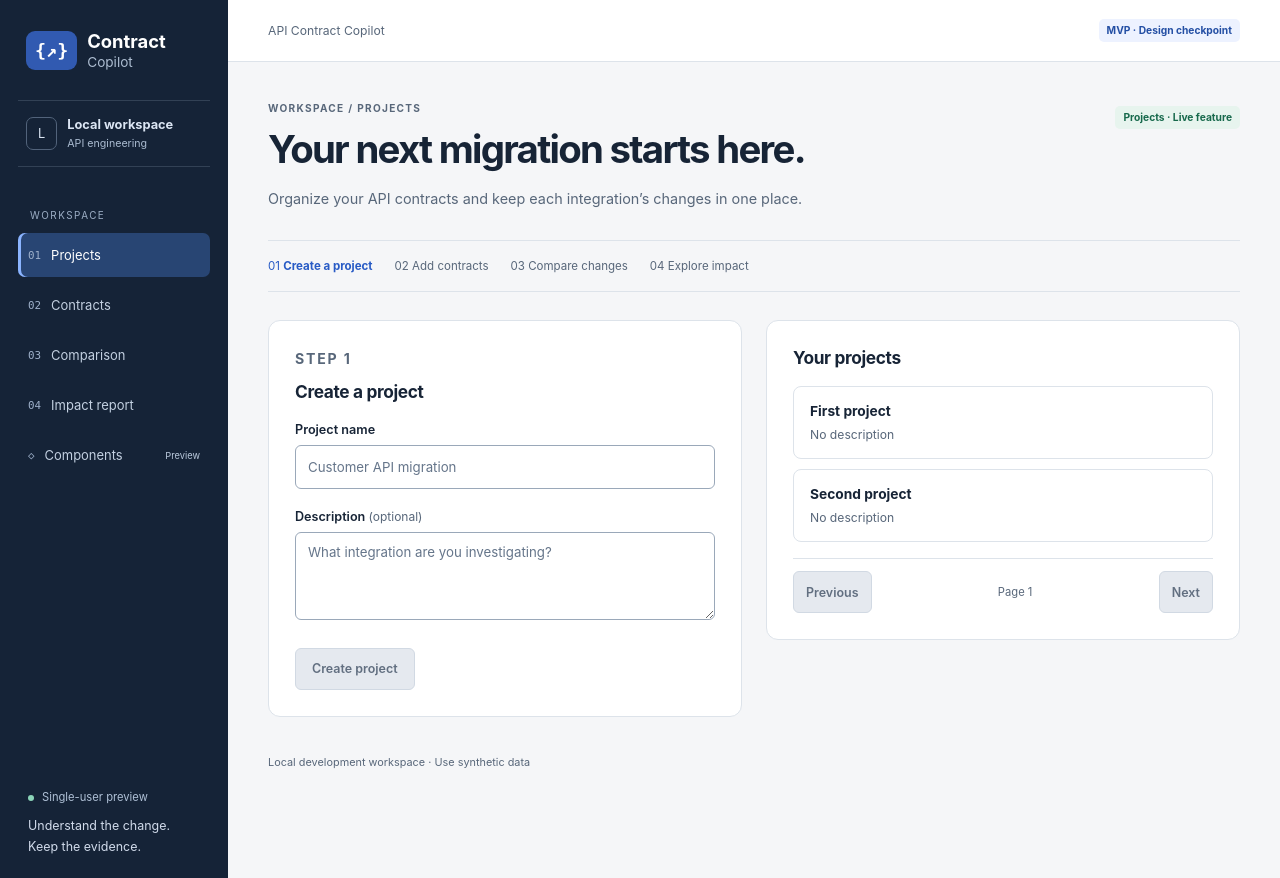
Test case: clears drafts and selection on project switching and ignores stale responses
Click the button "First project No description": (850, 411) [793,386,1213,459]
(page scrolled)
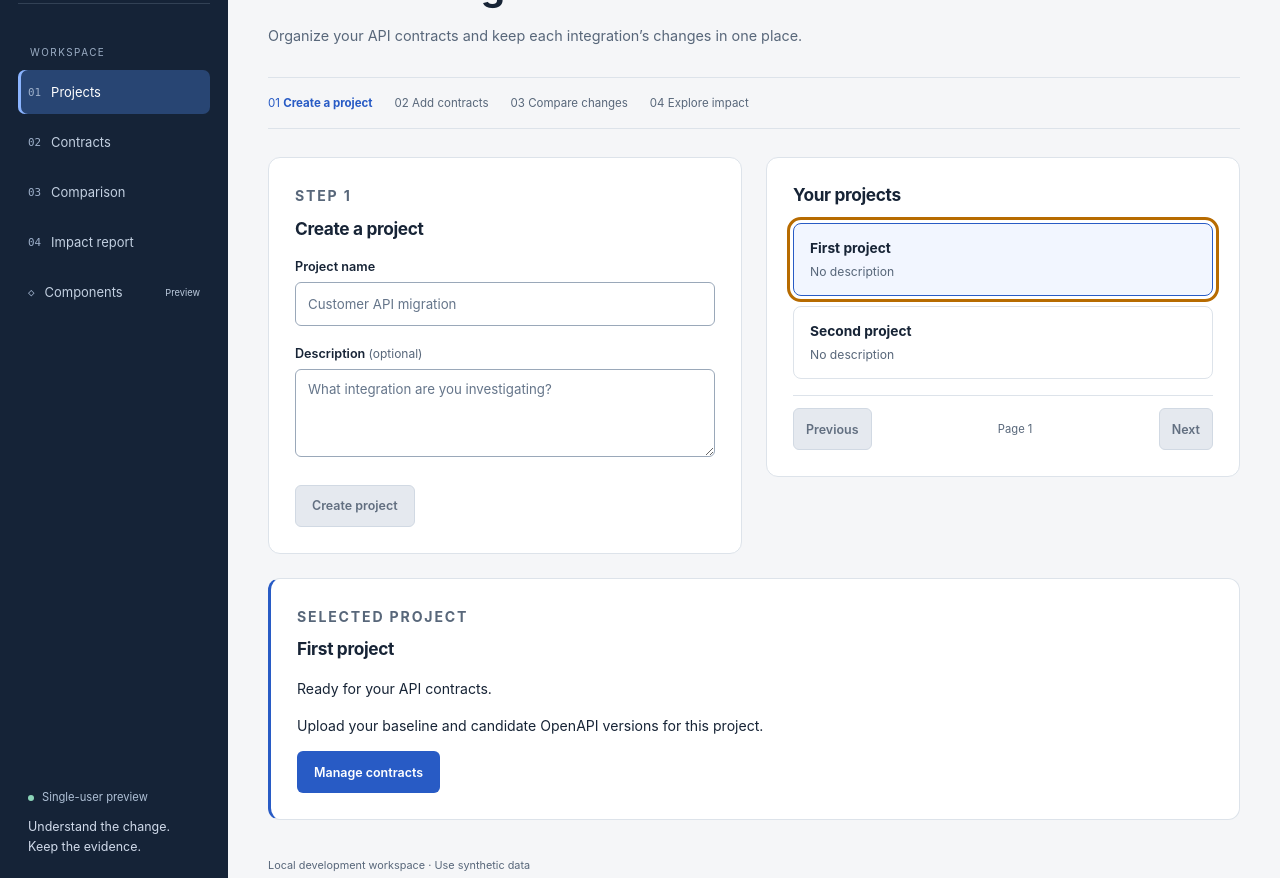
Click the button "Manage contracts": (369, 772) [297,751,440,793]
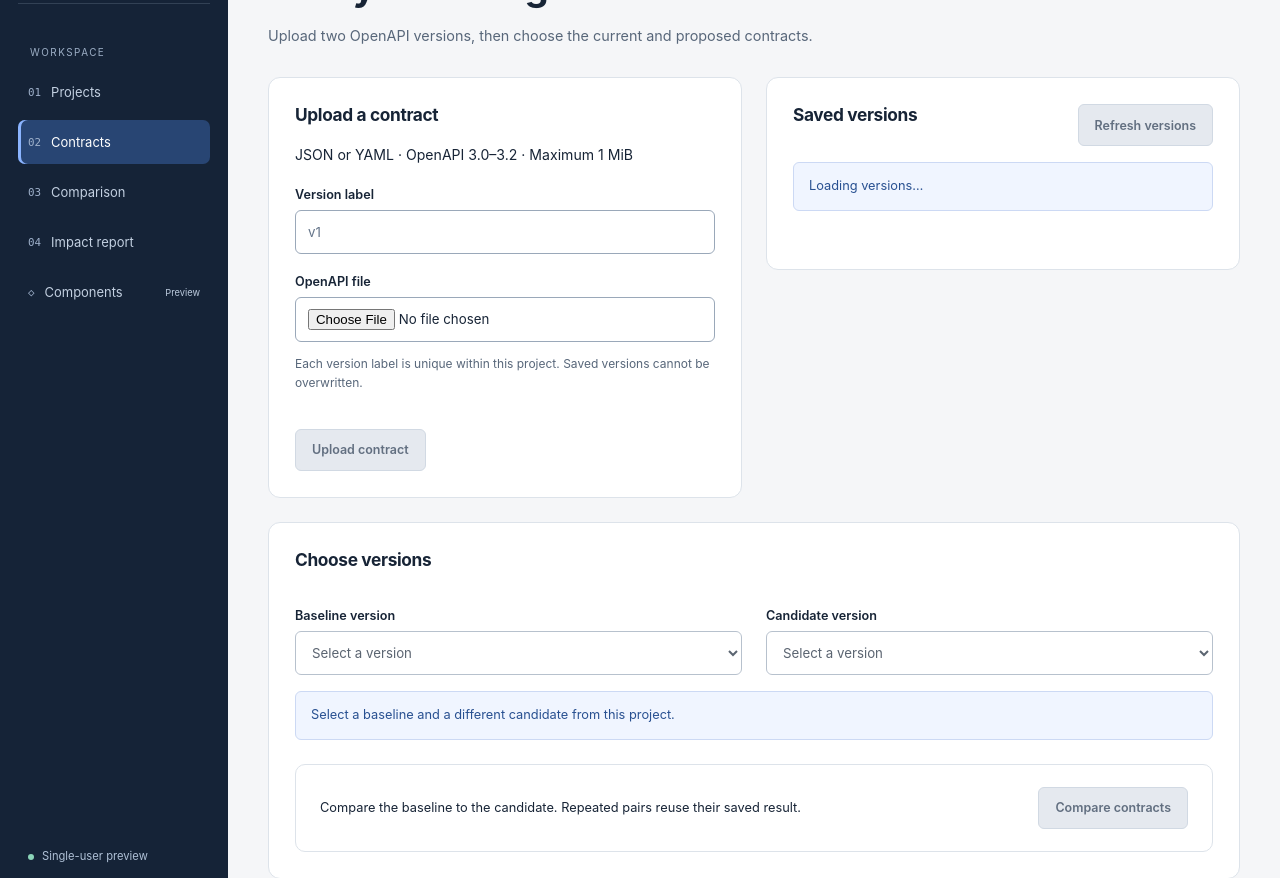
In the field labelled "Version label": (505, 232) [295,210,715,254], type "old draft"
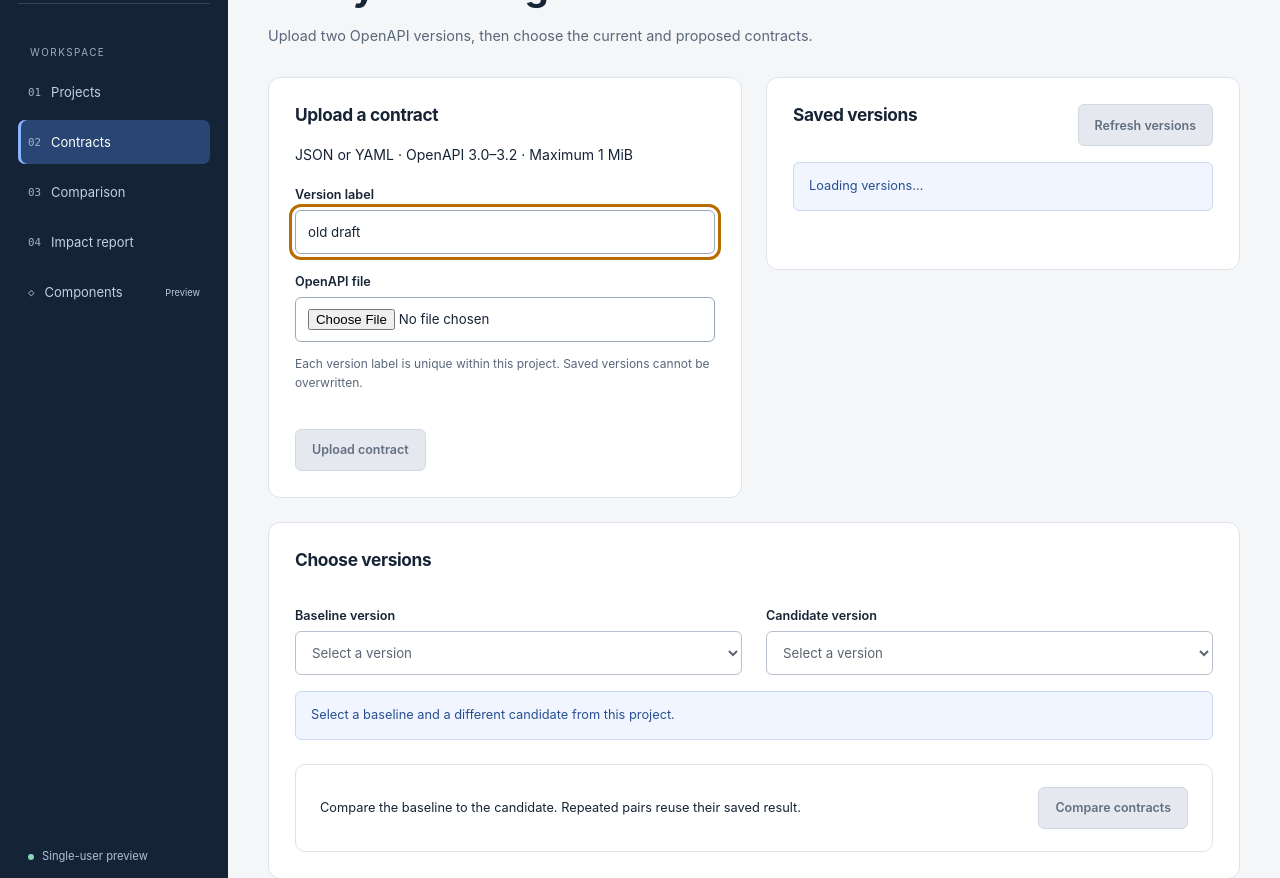
Click the button "01 Projects": (114, 92) [18,70,210,114]
(page scrolled)
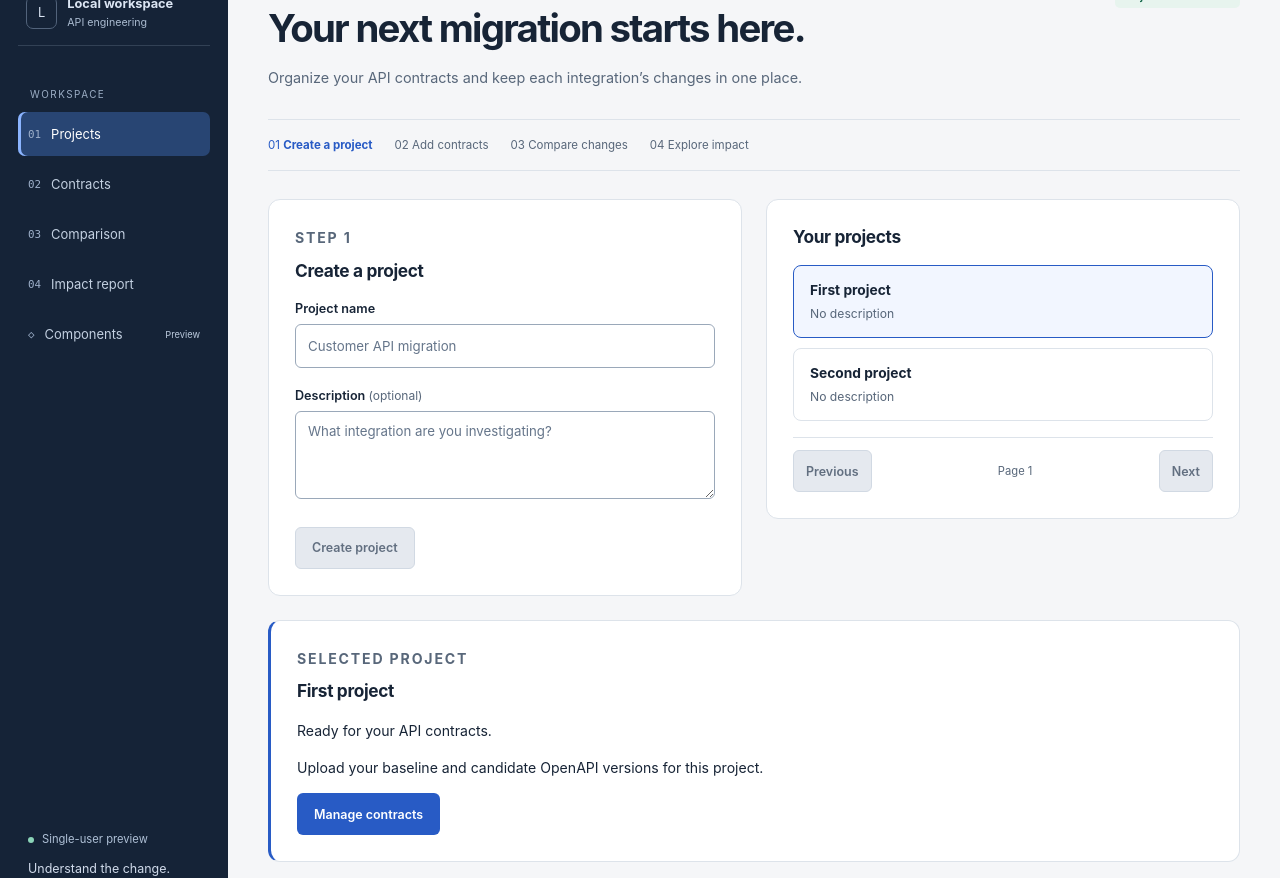
Click the button "Second project No description": (861, 373) [793,348,1213,421]
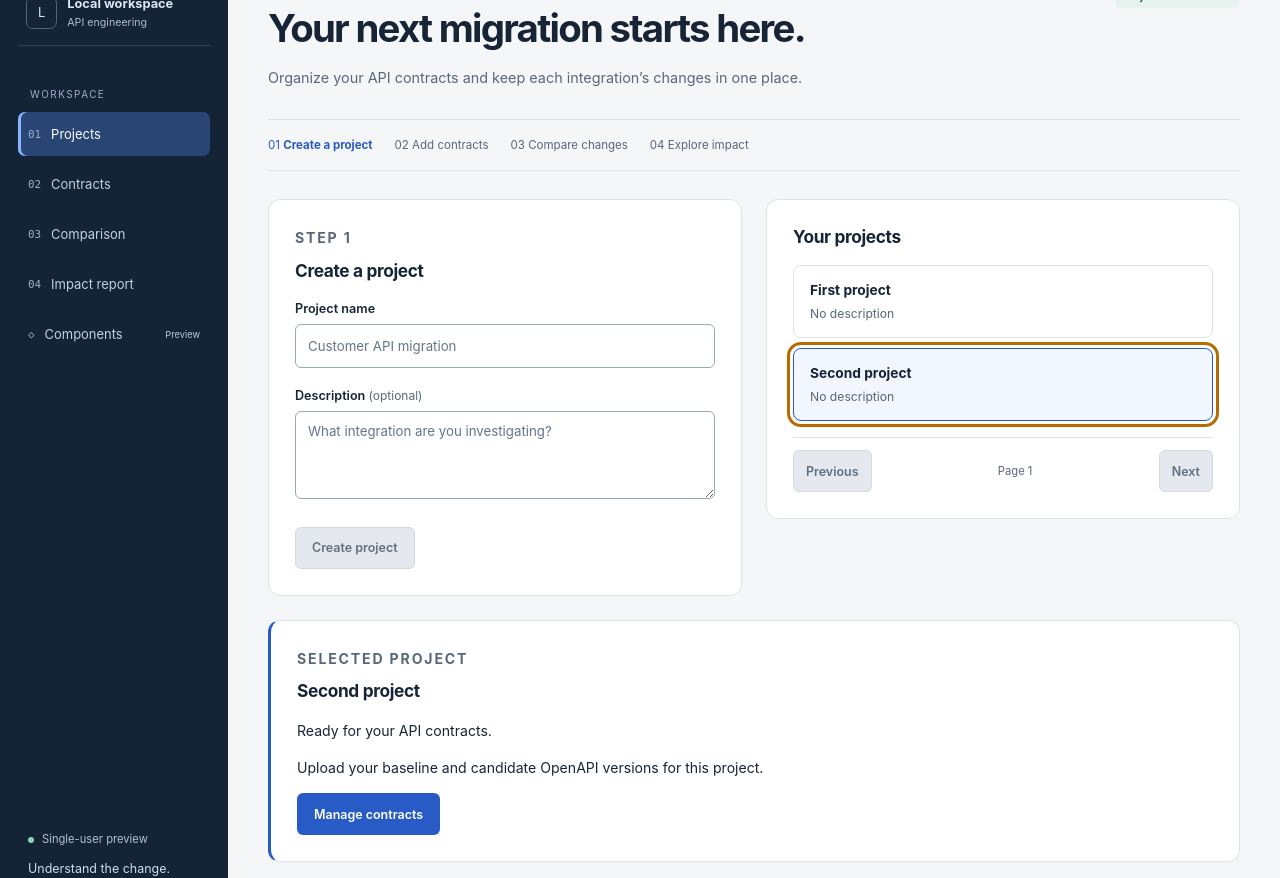
Click the button "Manage contracts": (369, 814) [297,793,440,835]
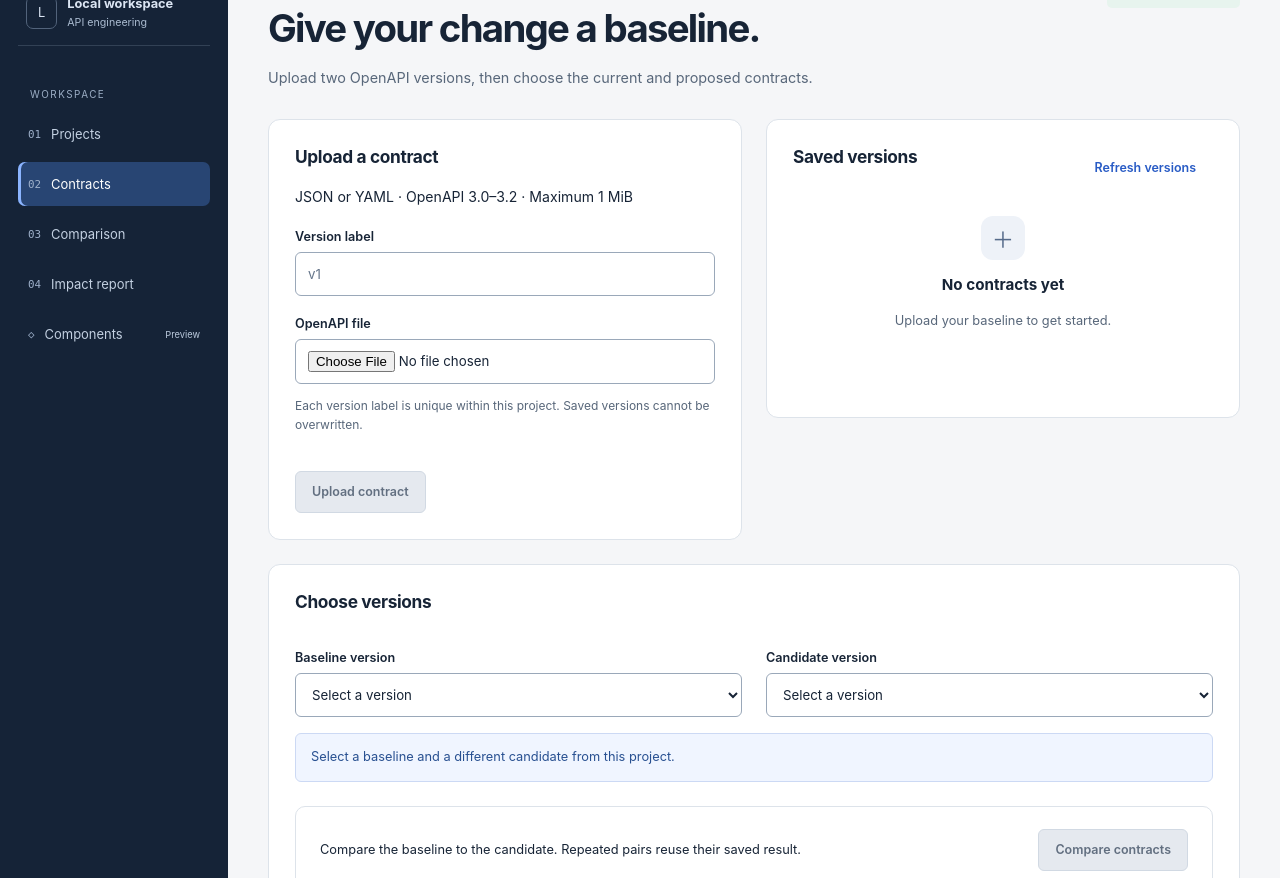
Expected: the heading "No contracts yet" is shown, [942,276,1064,294]
Expected: the field labelled "Version label" is empty, [295,252,715,296]
Expected: the dropdown labelled "Baseline version" shows "Select a version", [295,673,742,717]
